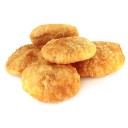poori: (22, 63, 82, 102), (74, 40, 126, 76), (43, 37, 97, 63), (6, 43, 43, 77), (30, 22, 80, 41)
